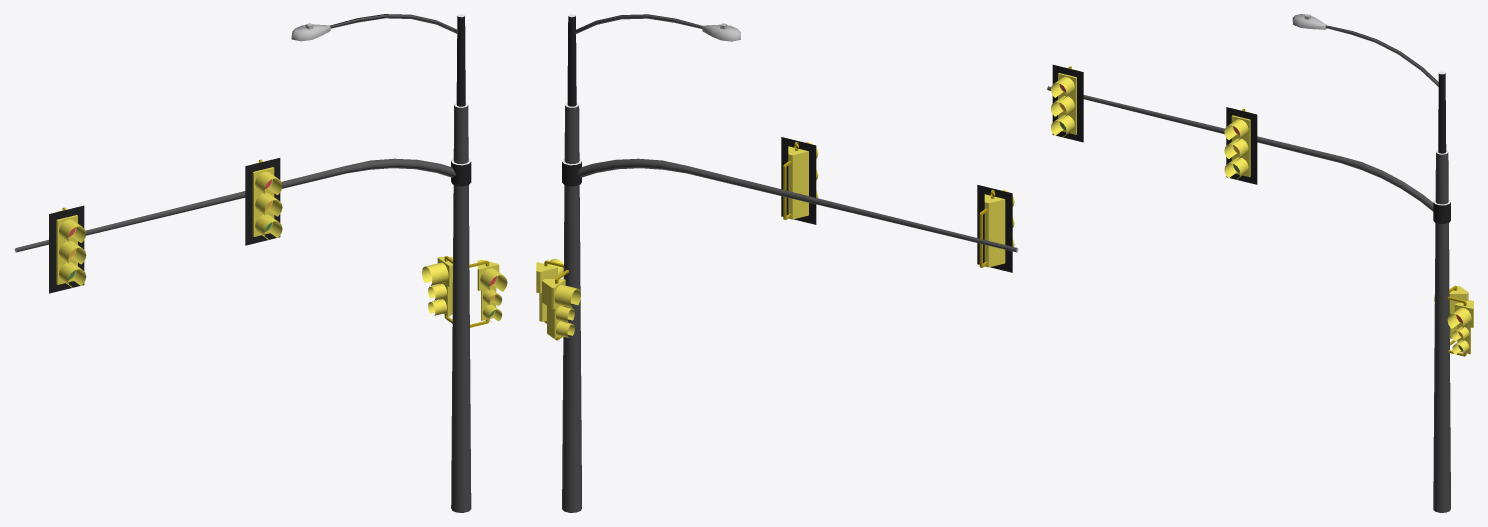
File: StreetLight_TrafficSignals.fbx
3 views of the same model, side by side, from view 1: azimuth 30°, elevation 25°; view 2: azimuth 150°, elevation 25°; view 3: azimuth 330°, elevation 25° (orthographic). The views are drawn at different scales.
Parts seen in each view (by area): view 1: TrafficSignals1, Group3, Group1, sun_shield1, sun_shield2, light12, light9, light4, light1, light6, light5, light3 (+1 smaller); view 2: TrafficSignals1, Group3, Group1, sun_shield2, sun_shield1, light9, light1, light4; view 3: TrafficSignals1, Group3, Group1, sun_shield2, sun_shield1, light12, light4, light1.
Part boxes in pixels (x1,y1,x2,y2): TrafficSignals1: (451, 103, 471, 512); Group3: (14, 158, 455, 252); Group1: (330, 14, 465, 106); sun_shield1: (49, 205, 84, 293); sun_shield2: (245, 158, 280, 245); light12: (477, 259, 507, 293); light9: (422, 257, 452, 287); light4: (252, 163, 282, 196); light1: (56, 211, 86, 244); light6: (252, 211, 282, 239); light5: (252, 190, 282, 218); light3: (56, 259, 86, 287); TrafficSignals1: (562, 103, 581, 512); Group3: (577, 158, 1018, 252); Group1: (567, 14, 702, 106); sun_shield2: (781, 137, 816, 224); sun_shield1: (977, 185, 1012, 272); light9: (542, 279, 580, 309); light1: (984, 190, 1014, 224); light4: (788, 142, 818, 176); TrafficSignals1: (1433, 150, 1450, 512); Group3: (1047, 86, 1433, 211); Group1: (1325, 25, 1446, 153); sun_shield2: (1226, 107, 1257, 184); sun_shield1: (1052, 64, 1083, 142); light12: (1447, 300, 1473, 330); light4: (1224, 111, 1250, 141); light1: (1050, 69, 1076, 99).
Size of the model in its own units: 330 by 341 by 54.29.
